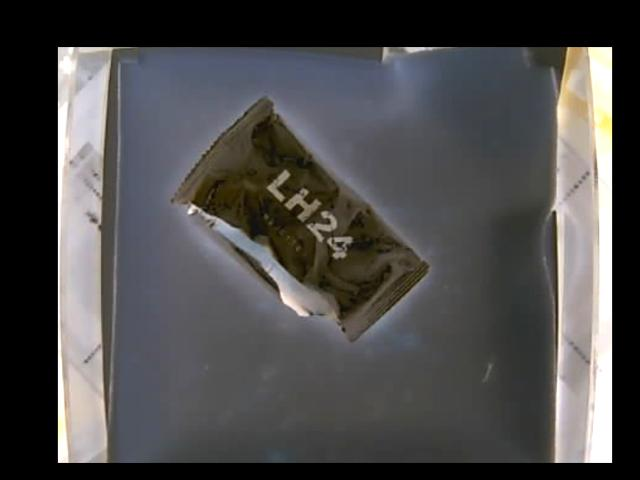Medicine: (169, 95, 429, 343)
